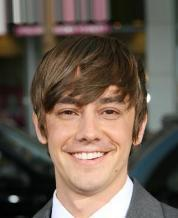face: (55, 100, 121, 166)
